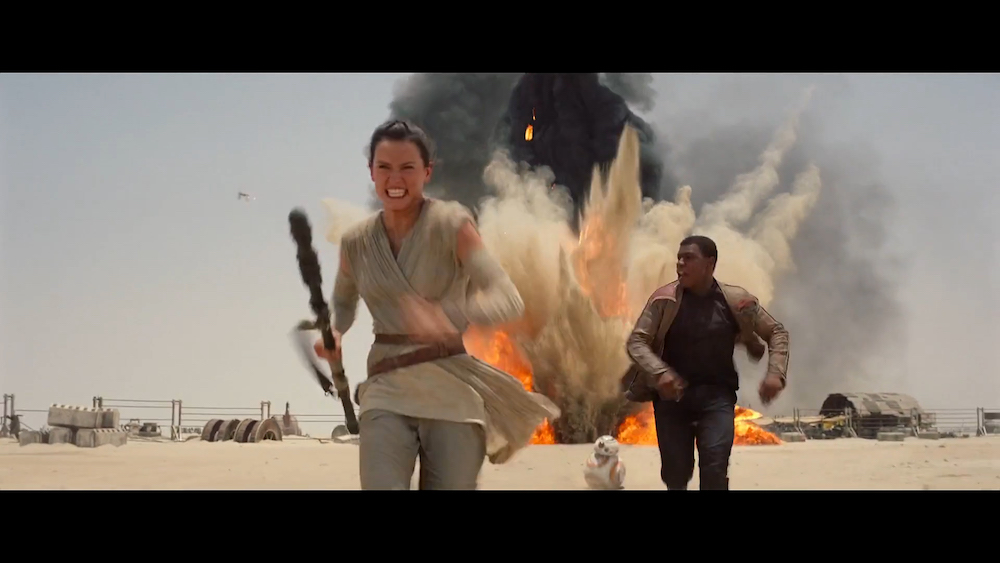Tie Fighter: (239, 191, 250, 203)
